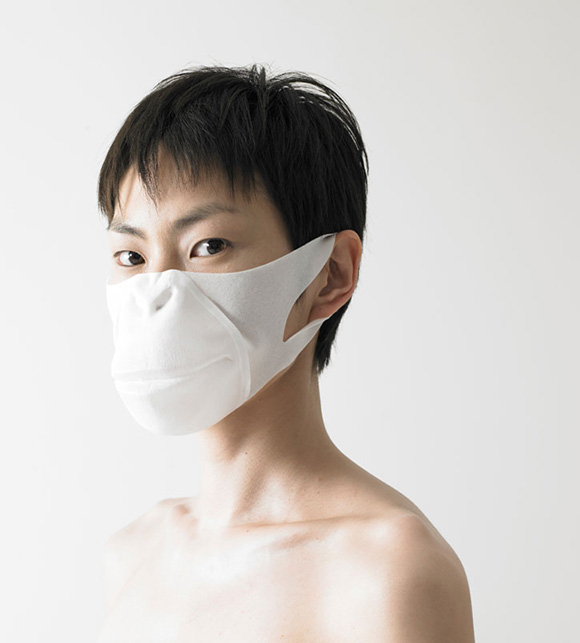face_mask: (105, 134, 304, 432)
